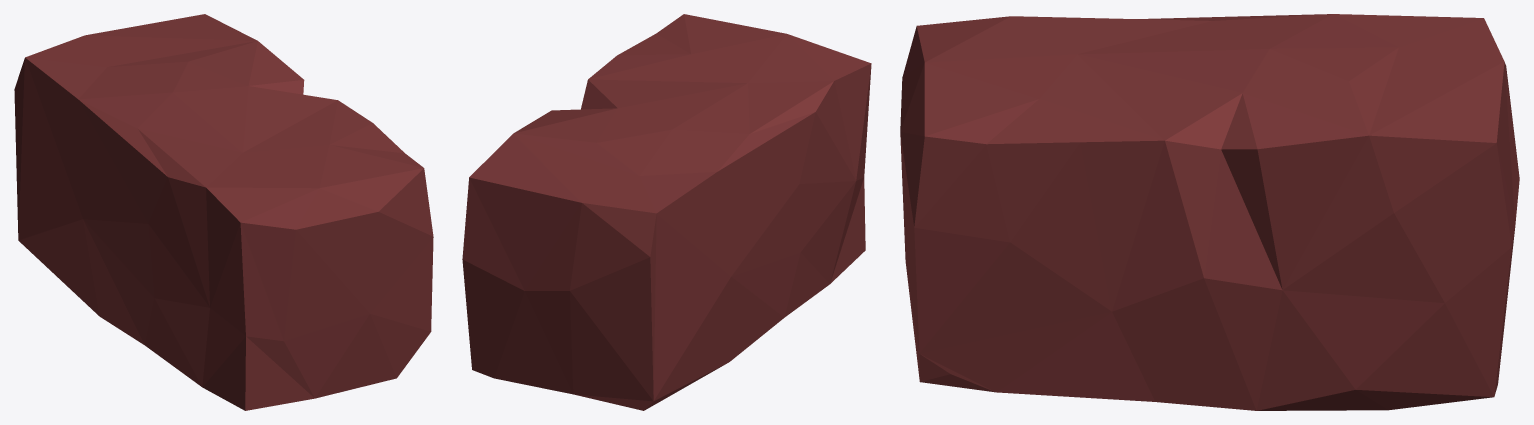
The model's file is brick_01.fbx.
3 renders of one model, left to right at view 1: azimuth 30°, elevation 25°; view 2: azimuth 150°, elevation 25°; view 3: azimuth 270°, elevation 25°, orthographic. The views are drawn at different scales.
Visible parts, largest first — view 1: brick_01_lp; view 2: brick_01_lp; view 3: brick_01_lp.
Boxes of the visible parts, x1,y1,x2,y2 form: brick_01_lp: (14, 14, 433, 410); brick_01_lp: (462, 14, 871, 410); brick_01_lp: (900, 14, 1519, 410).
Bounding box in the file's own units: 32.75 × 33.1 × 63.46.
